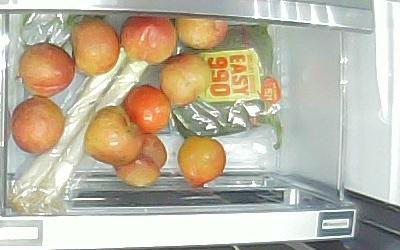prune: (83, 106, 144, 164), (11, 96, 65, 153), (19, 43, 73, 96), (115, 133, 169, 186), (118, 15, 177, 63), (160, 53, 212, 107), (71, 18, 119, 76), (178, 136, 225, 185), (123, 85, 171, 131), (177, 19, 228, 51)
